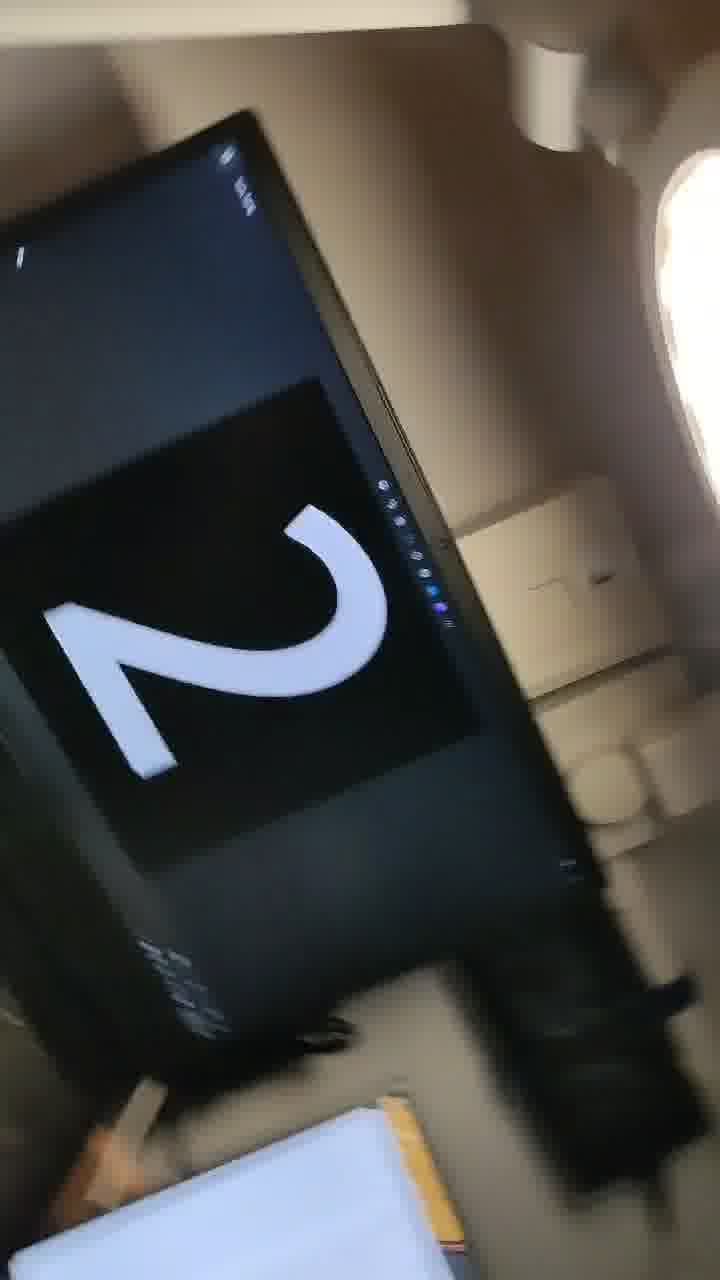two: (37, 405, 475, 886)
